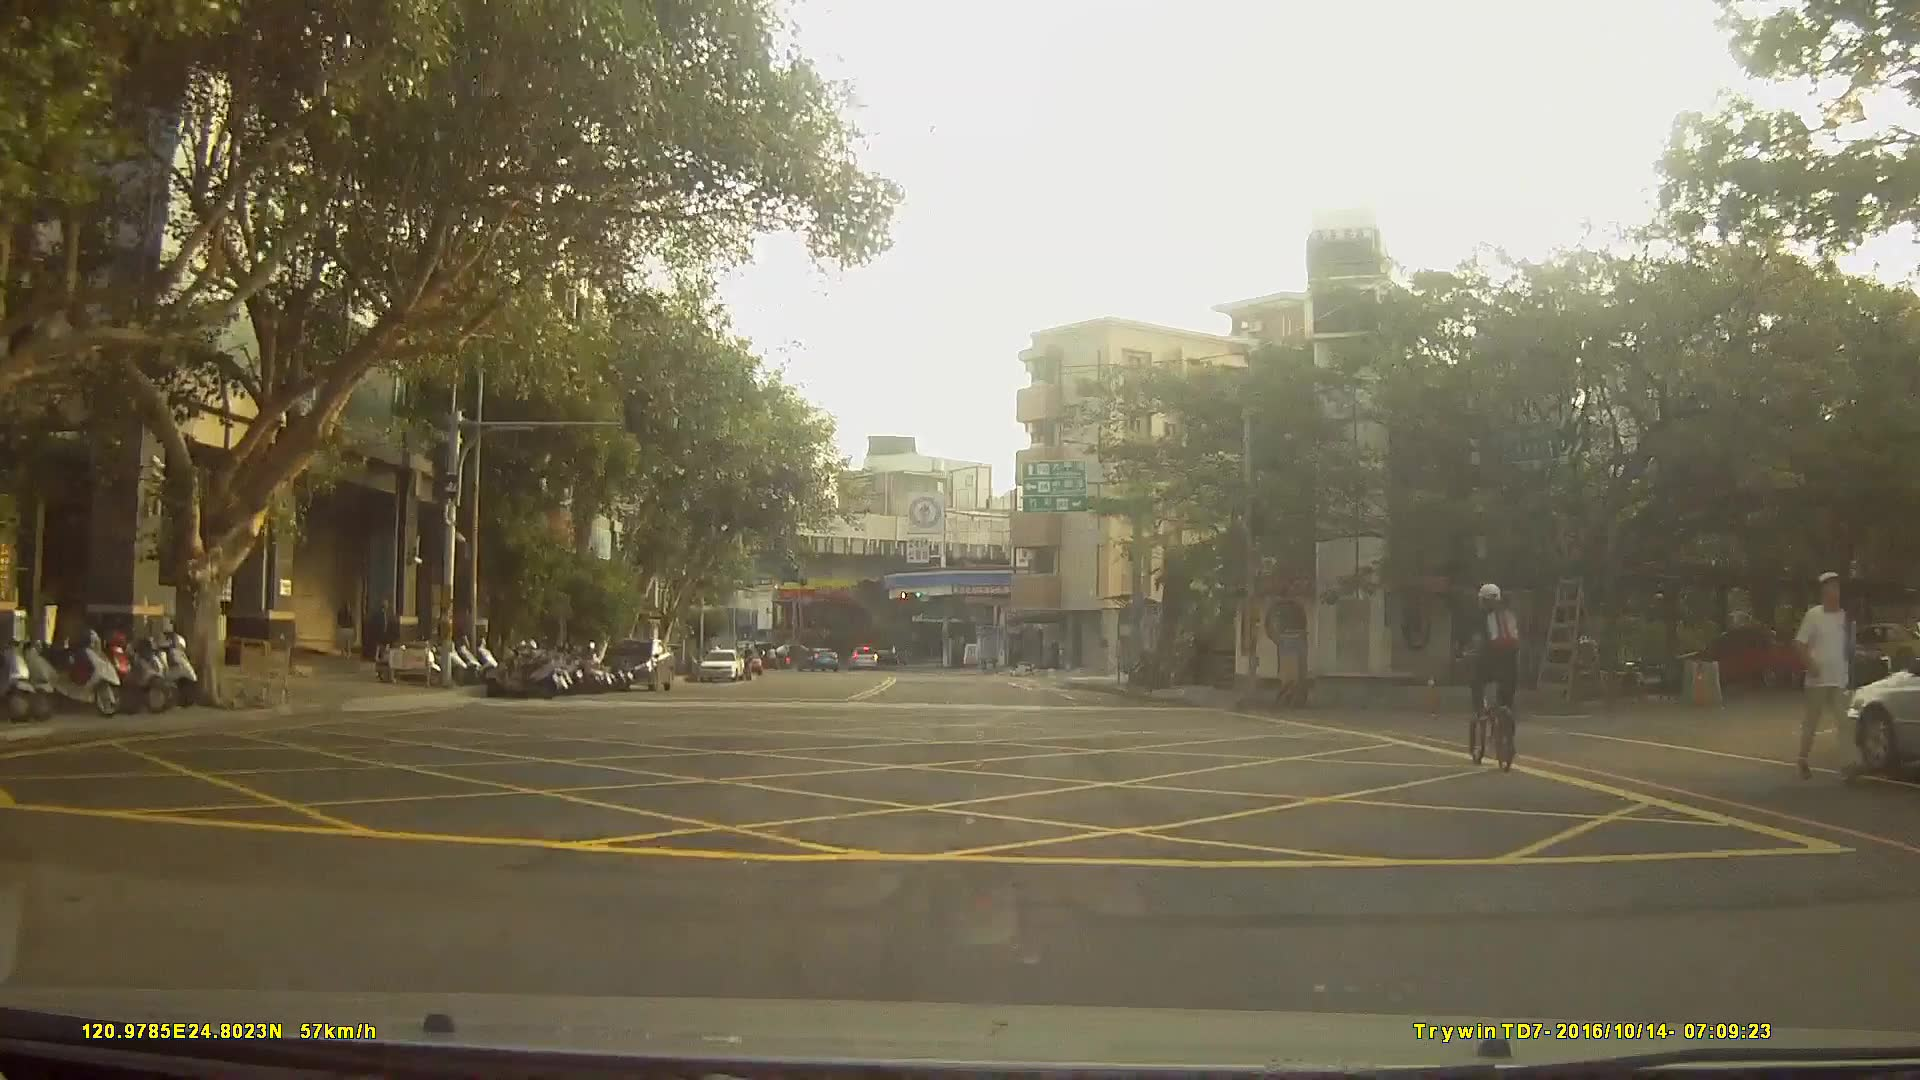pedestrian: (1783, 569, 1872, 790), (335, 599, 357, 663)
rider: (1454, 580, 1519, 775)
vehicle: (1677, 621, 1810, 692), (1844, 662, 1920, 779), (601, 637, 673, 692), (695, 648, 742, 684), (797, 644, 837, 671), (847, 642, 880, 669)
